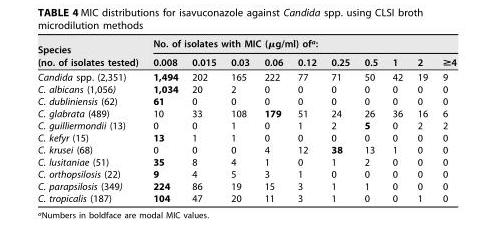table: (37, 37, 455, 203)
table column: (37, 37, 145, 203), (145, 37, 184, 203), (184, 37, 222, 203), (222, 37, 256, 203), (289, 37, 323, 203), (256, 37, 289, 203), (323, 37, 356, 203), (356, 37, 384, 203), (384, 37, 409, 203), (409, 37, 434, 203), (434, 37, 455, 203)
table column header: (37, 37, 455, 69)
table row: (37, 52, 455, 69), (37, 37, 455, 52), (37, 69, 455, 82), (37, 118, 455, 131), (37, 82, 455, 94), (37, 94, 455, 106), (37, 106, 455, 118), (37, 131, 455, 143), (37, 143, 455, 155), (37, 155, 455, 167), (37, 167, 455, 179), (37, 179, 455, 191), (37, 191, 455, 203)
table spanning cell: (145, 37, 455, 52), (37, 37, 145, 69)
